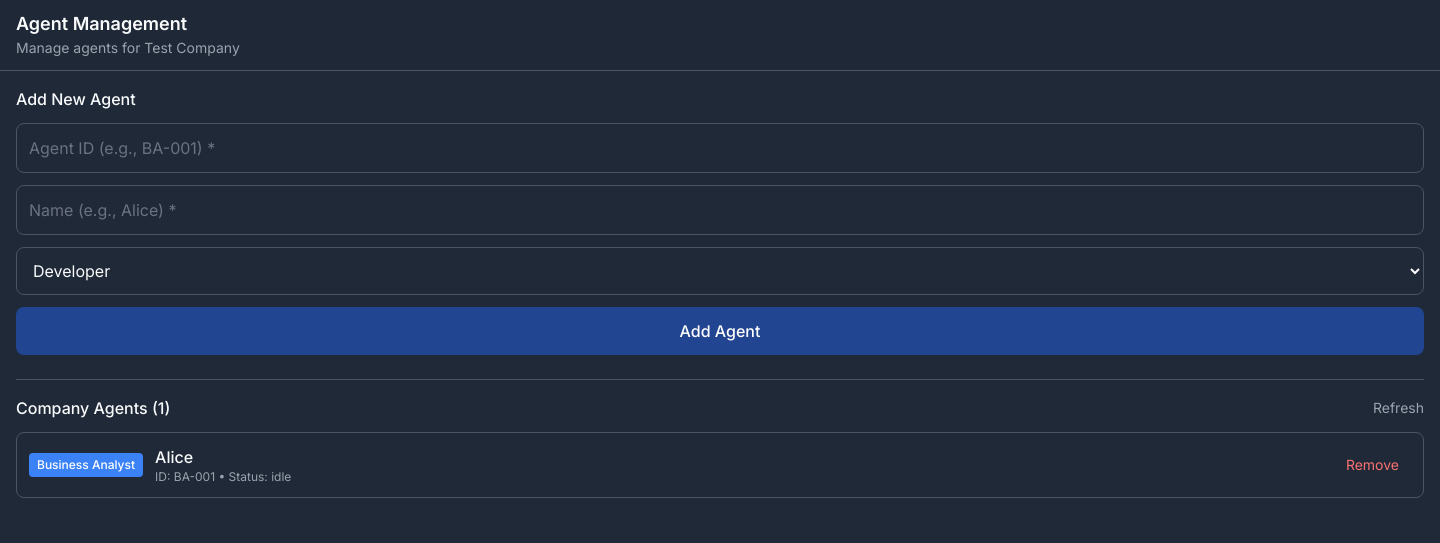
Test: AgentManagement › AC1: Form validation › shows validation error for duplicate Agent ID
In the field with placeholder "Agent ID (e.g., BA-001) *": (720, 148) [16,123,1424,173], type "BA-001"
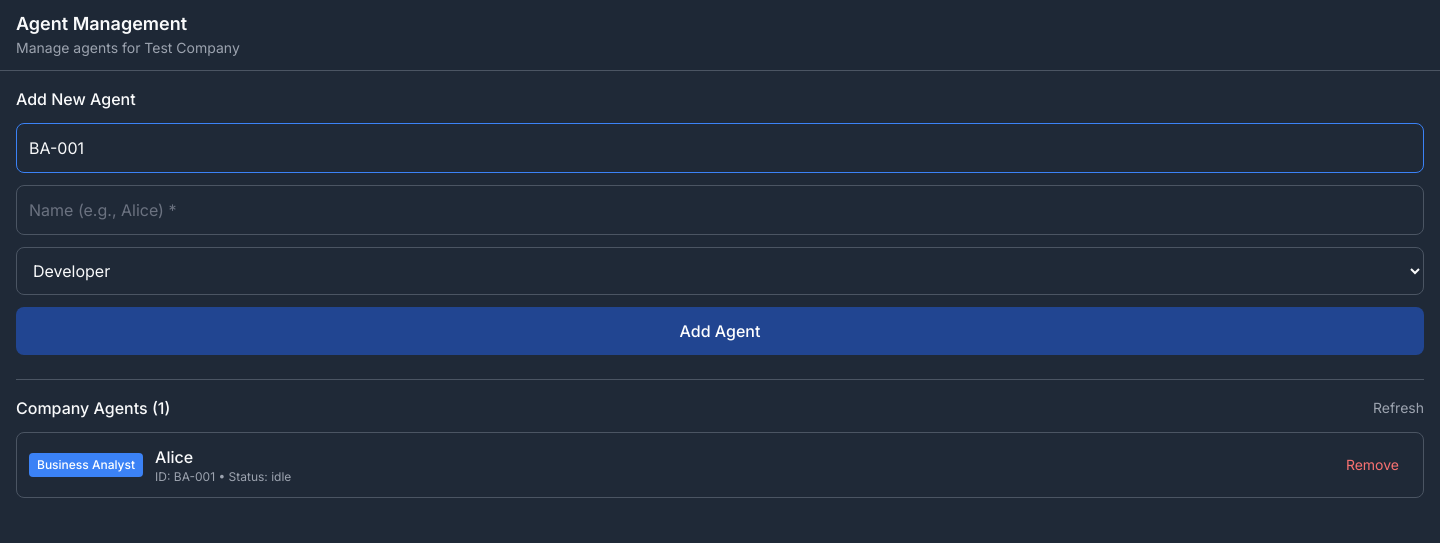
In the field with placeholder "Name (e.g., Alice) *": (720, 210) [16,185,1424,235], type "Bob"
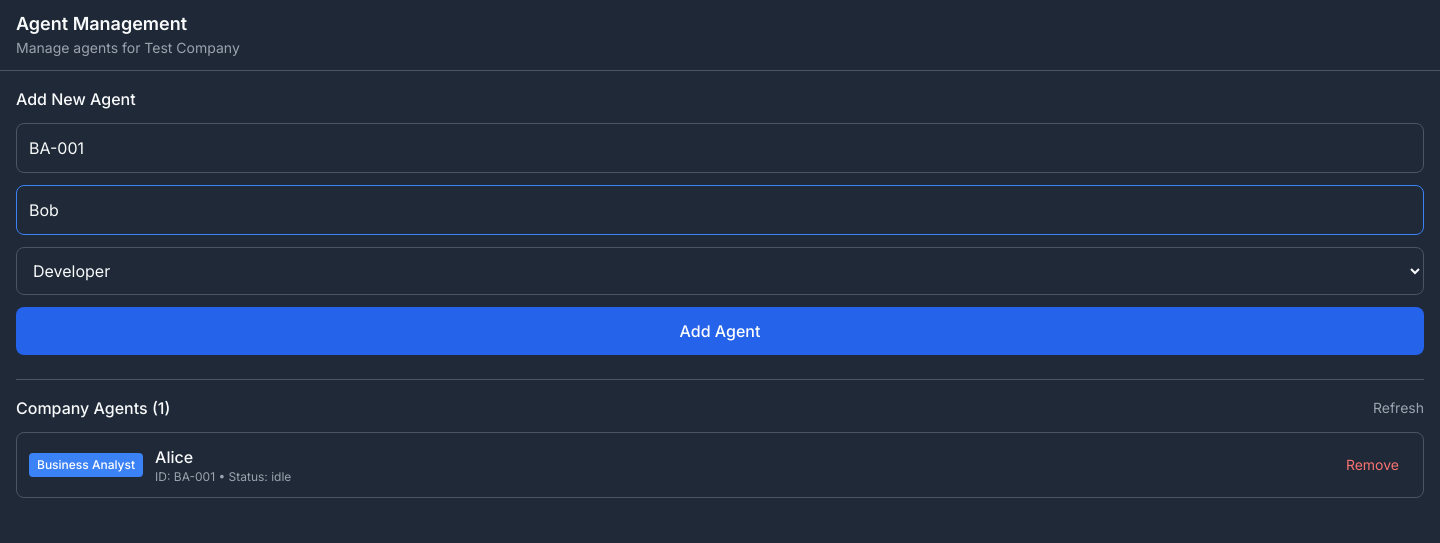
Click the button "Add Agent": (720, 331) [16,307,1424,355]
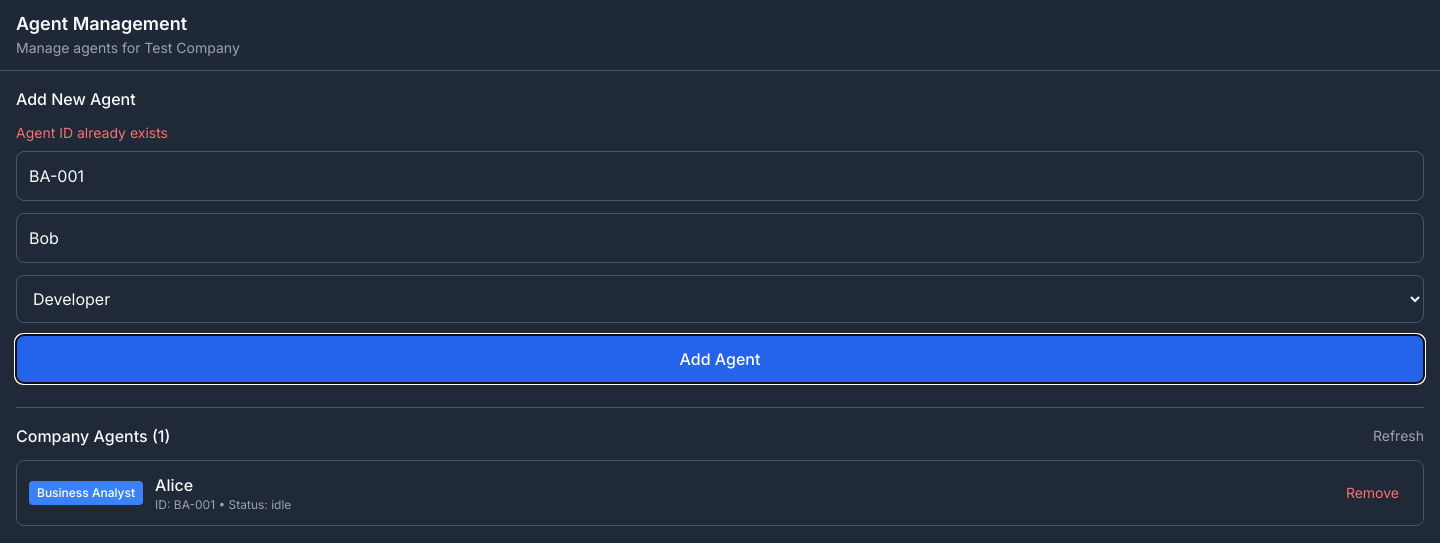
Result: the text "Agent ID already exists" is shown at [16,124,168,141]
